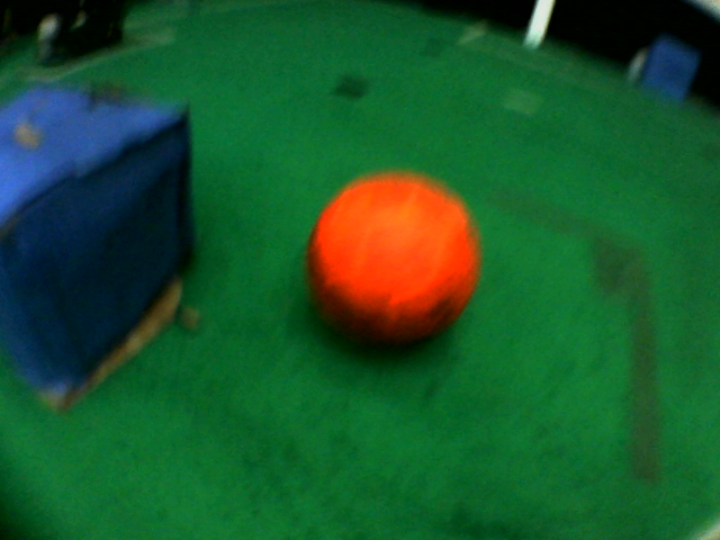bola: (295, 166, 484, 369)
